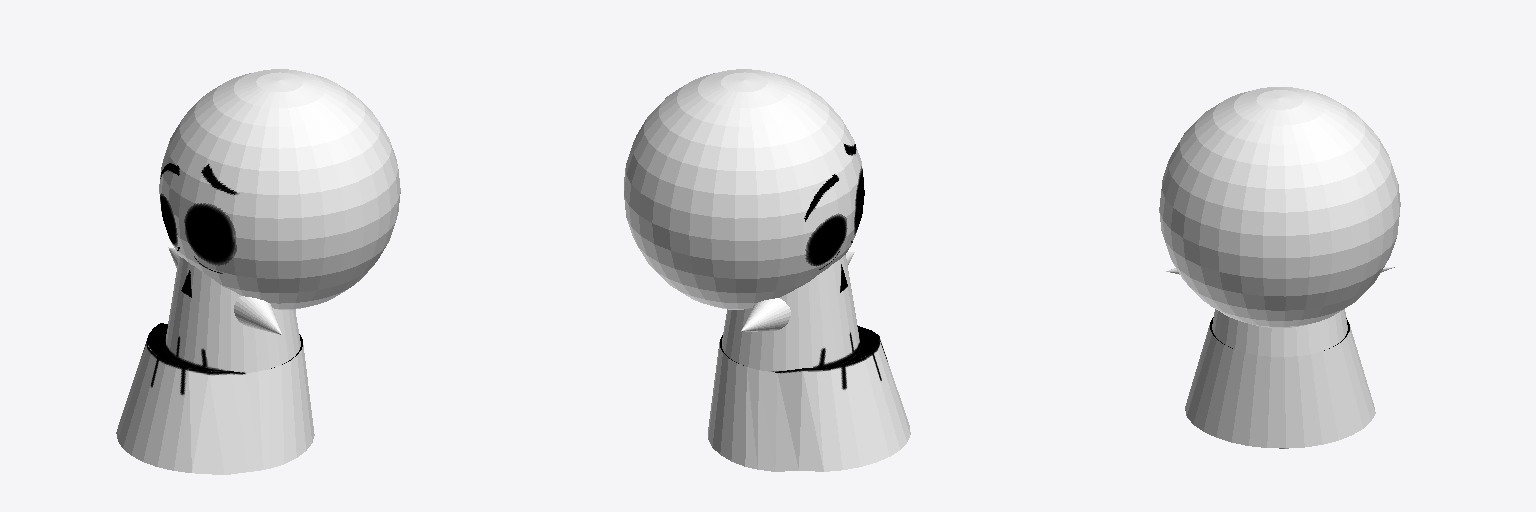
The picture shows the model from 3 angles: view 1: azimuth 30°, elevation 25°; view 2: azimuth 150°, elevation 25°; view 3: azimuth 270°, elevation 25°; orthographic projection.
Visible parts, largest first — view 1: Cylinder; view 2: Cylinder; view 3: Cylinder.
Boxes of the visible parts, <box> form: Cylinder: <box>116,69,400,474</box>; Cylinder: <box>624,69,910,471</box>; Cylinder: <box>1159,87,1400,448</box>.
Bounding box in the file's own units: 2.45 × 3.1 × 2.
1 materials, 1 textured.